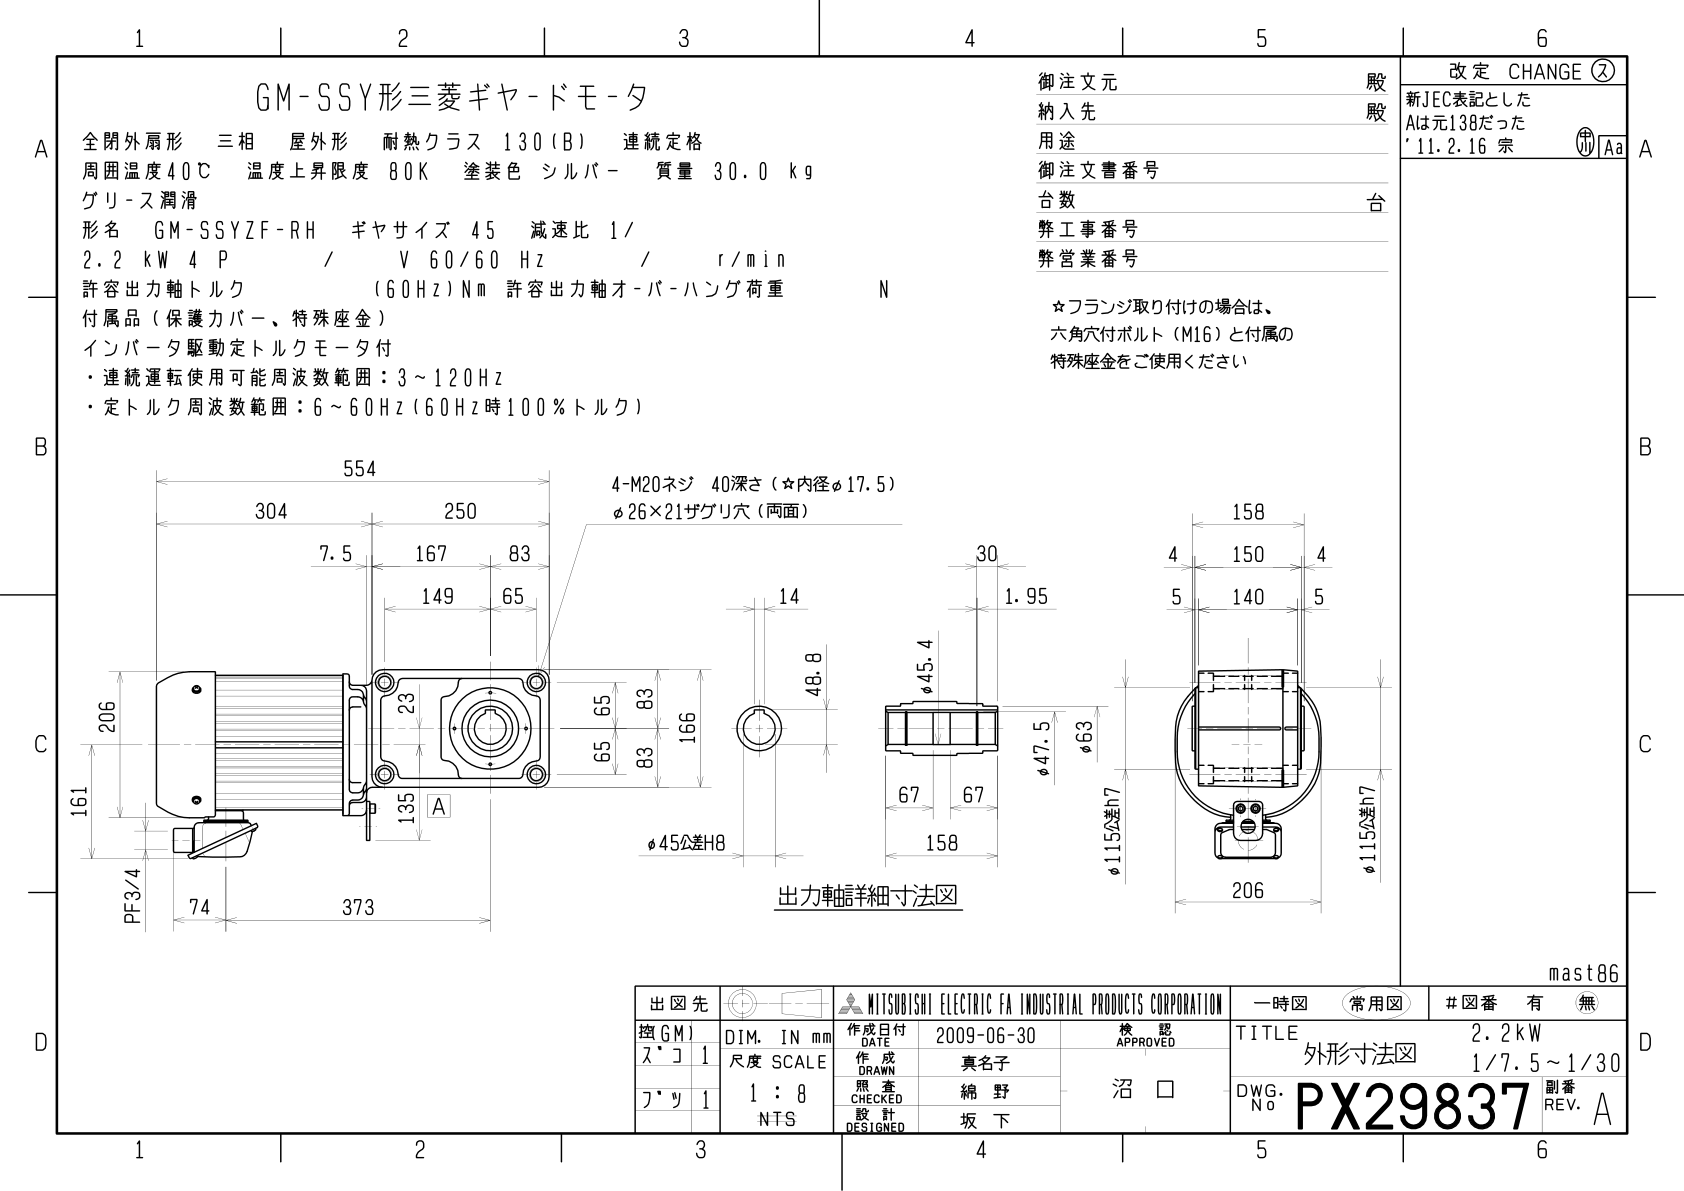GM_SSY_インバータ屋外_三相: (64, 437, 1393, 974)
